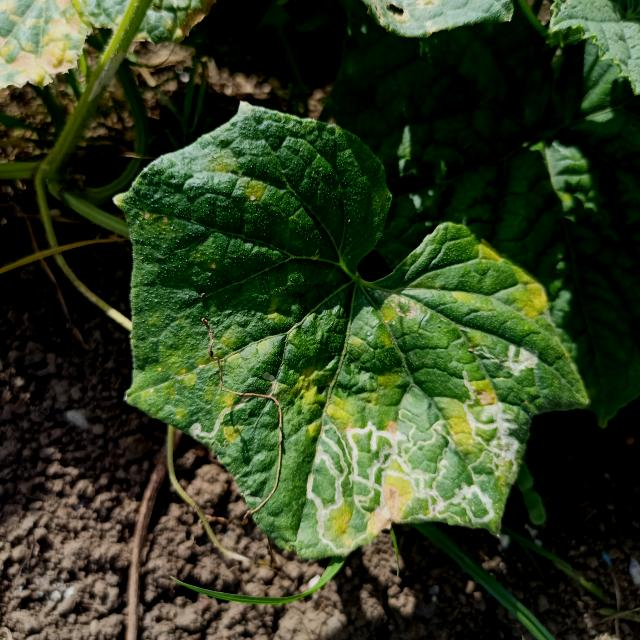disease_cucumber: (198, 296, 542, 547), (440, 230, 547, 327), (202, 148, 272, 206)
